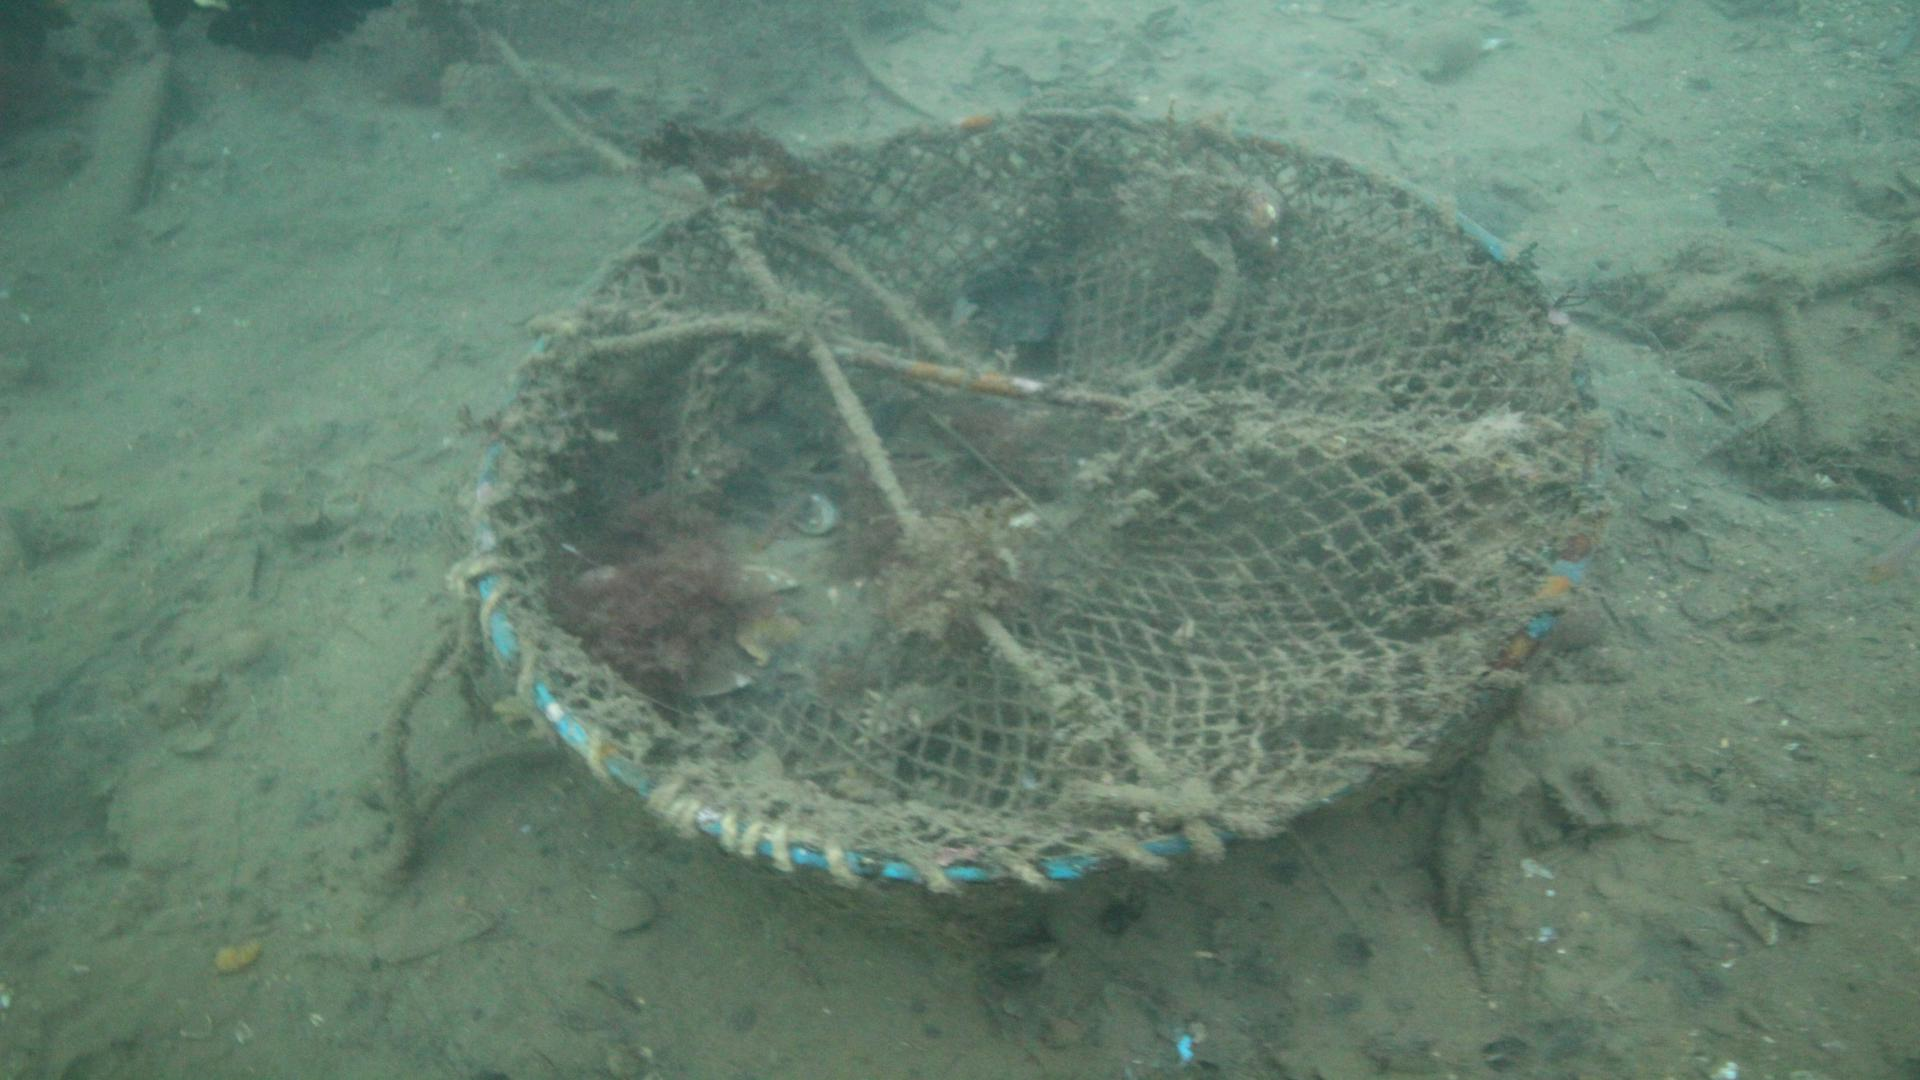circular fish trap: (468, 100, 1611, 893)
